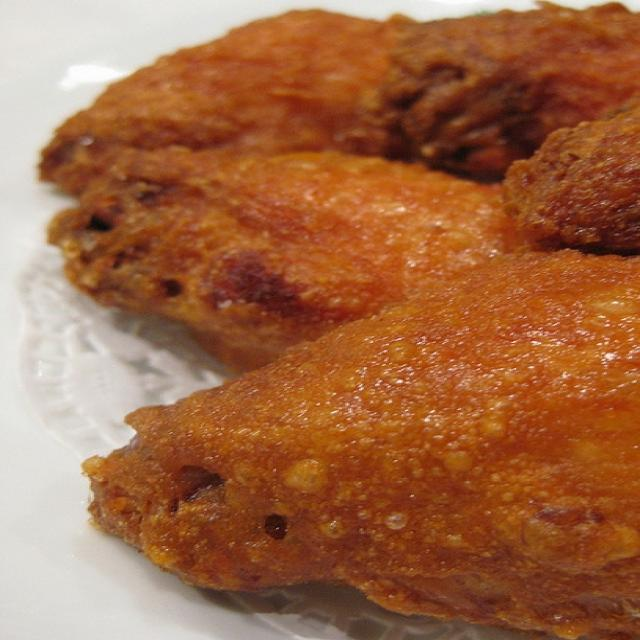Deep fried chicken wing: (33, 3, 625, 635)
